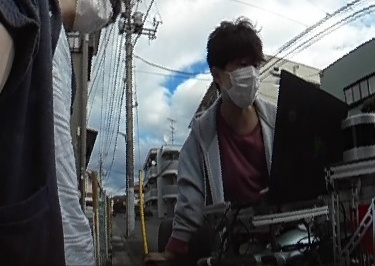person: (170, 16, 288, 266)
